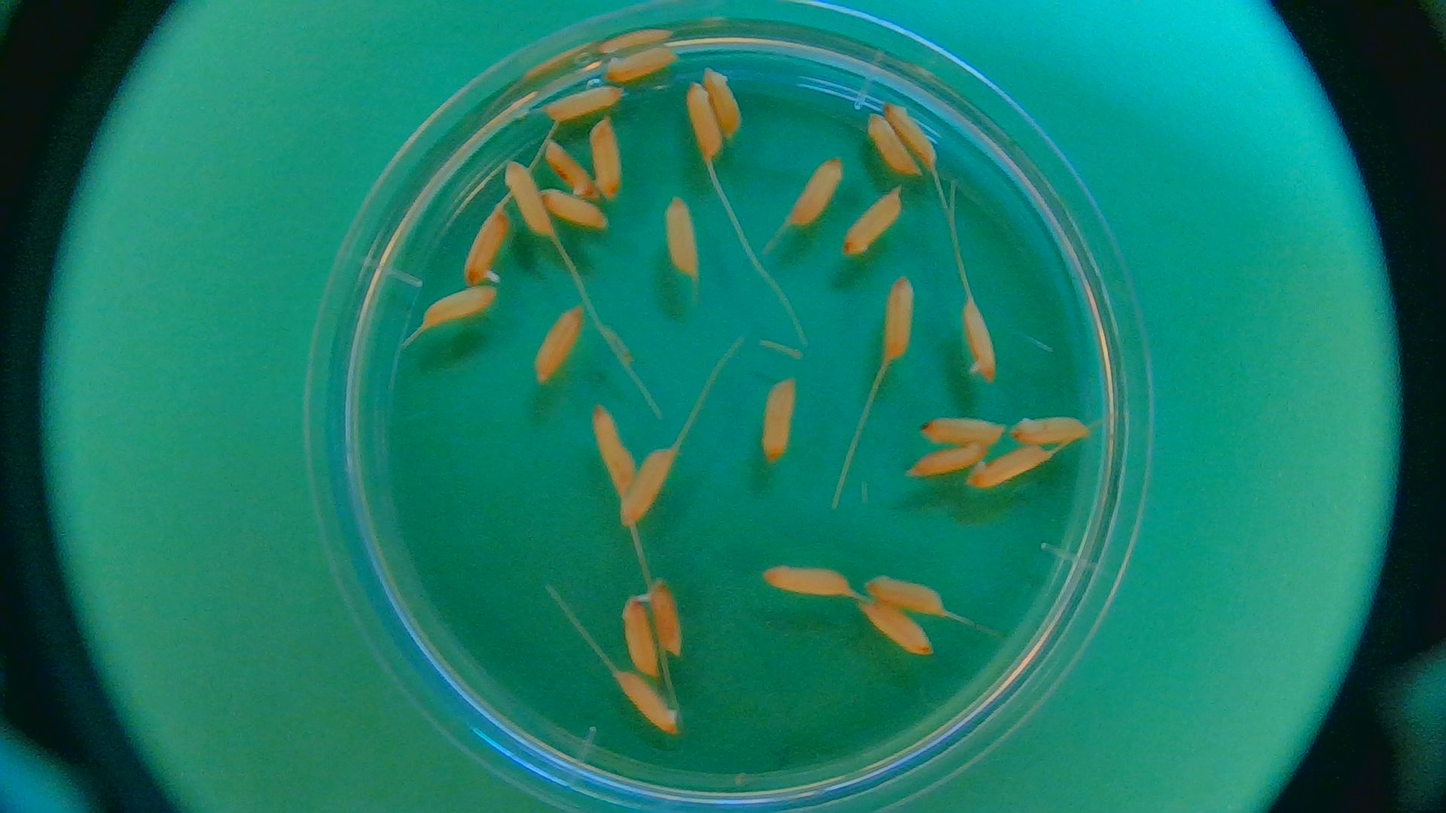no: (832, 188, 912, 257), (583, 406, 640, 502), (501, 155, 558, 241), (860, 598, 935, 660), (617, 447, 675, 527), (528, 306, 589, 382), (777, 157, 844, 226), (613, 671, 684, 736), (956, 294, 1004, 386), (862, 108, 924, 178), (537, 139, 602, 201), (682, 80, 729, 165), (884, 97, 939, 169), (919, 410, 1007, 455), (534, 185, 611, 236), (413, 283, 496, 330), (876, 275, 918, 367), (863, 571, 947, 617), (658, 192, 703, 275), (761, 559, 853, 599), (618, 593, 660, 679), (583, 113, 624, 201), (538, 83, 625, 123), (698, 64, 743, 141), (969, 448, 1053, 489), (760, 377, 799, 462), (908, 441, 984, 479), (601, 44, 676, 79), (1005, 414, 1091, 444)
yes: (457, 203, 514, 285), (635, 575, 682, 655)
